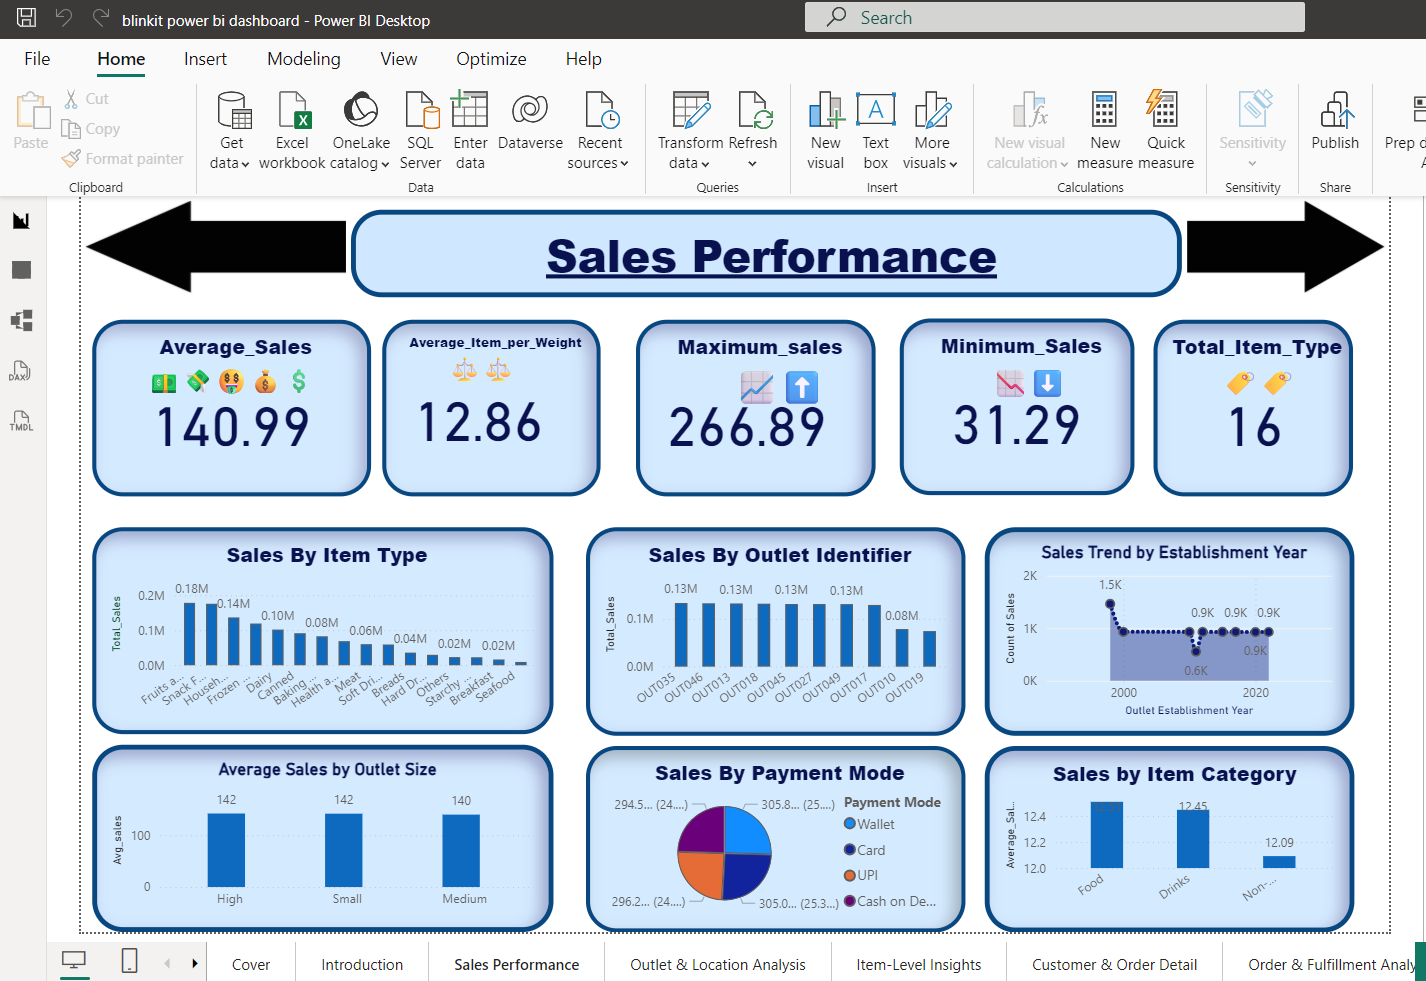

The page's visual inventory and layout, read from the dashboard file:
{"tool":"powerbi","page":{"name":"Sales Performance ","canvas":[1280,720],"ordinal":2},"visuals":[{"type":"textbox","title":"Sales Performance","box":[264.1,13.5,813.2,85.6],"z":0},{"type":"cardVisual","title":"Average_Item_per_Weight","fields":{"Data":["blinkit_data_master.Average_item_weight"]},"box":[295,121.2,213.8,172.5],"z":1000},{"type":"cardVisual","title":"Maximum_sales","fields":{"Data":["blinkit_data_master.Maximum_Sales"]},"box":[542.9,121.1,234.8,172.4],"z":2000},{"type":"cardVisual","title":"Minimum_Sales","fields":{"Data":["blinkit_data_master.minimum_sales"]},"box":[801,119.8,229.9,172.4],"z":3000},{"type":"cardVisual","title":"Total_Item_Type","fields":{"Data":["blinkit_data_master.Total_Item_types"]},"box":[1048.8,121.2,195,172.5],"z":4000},{"type":"clusteredColumnChart","title":"Sales By Item Type","fields":{"Y":["blinkit_data_master.Total_Sales"],"Category":["blinkit_data_master.Item Type"]},"box":[11.2,323.8,451.2,202.5],"z":5000},{"type":"clusteredColumnChart","title":"Average Sales by Outlet Size","fields":{"Y":["blinkit_data_master.Avg_sales"],"Category":["blinkit_data_master.Outlet Size"]},"box":[11,537,451,183],"z":6000},{"type":"clusteredColumnChart","title":"Sales By Outlet Identifier","fields":{"Category":["blinkit_data_master.Outlet Identifier"],"Y":["blinkit_data_master.Total_Sales"]},"box":[493.8,323.8,371.2,203.8],"z":7000},{"type":"pieChart","title":"Sales By Payment Mode","fields":{"Category":["blinkit_data_master.Payment Mode"],"Y":["blinkit_data_master.Total_Sales"]},"box":[493.8,537.5,371.2,182.5],"z":8000},{"type":"clusteredColumnChart","title":"Sales by Item Category","fields":{"Category":["blinkit_data_master.Item Category"],"Y":["blinkit_data_master.Average_Sales_per Weight"]},"box":[884.1,538,362,182.2],"z":9000},{"type":"lineChart","title":"Sales Trend by Establishment Year","fields":{"Y":["CountNonNull(blinkit_data_master.Sales)"],"Category":["blinkit_data_master.Outlet Establishment Year"]},"box":[883.8,323.8,361.2,203.8],"z":10000},{"type":"cardVisual","title":"Average_Sales","fields":{"Data":["blinkit_data_master.Avg_sales"]},"box":[11.2,121.2,272.5,172.5],"z":11000},{"type":"textbox","box":[11,159,272.7,48.9],"z":12000},{"type":"textbox","box":[275.1,148,233.6,51.4],"z":13000},{"type":"textbox","box":[589.4,159,188.3,91.7],"z":14000},{"type":"textbox","box":[824.2,159,206.7,91.7],"z":15000},{"type":"textbox","box":[1073.6,159,157.7,46.5],"z":16000},{"type":"image","box":[0,0,264.1,99],"z":16001},{"type":"image","box":[1077.3,0,203,99],"z":16002}]}

Visuals, with their boxes on the page's 1280x720 design canvas (x1, y1, x2, y2). These are canvas units, not pixel positions in the 1426x981 screenshot, which may show the page scaled, cropped or inside an application window:
"Sales Performance" textbox: (x1=264, y1=14, x2=1077, y2=99)
"Average_Item_per_Weight" cardVisual: (x1=295, y1=121, x2=509, y2=294)
"Maximum_sales" cardVisual: (x1=543, y1=121, x2=778, y2=294)
"Minimum_Sales" cardVisual: (x1=801, y1=120, x2=1031, y2=292)
"Total_Item_Type" cardVisual: (x1=1049, y1=121, x2=1244, y2=294)
"Sales By Item Type" clusteredColumnChart: (x1=11, y1=324, x2=462, y2=526)
"Average Sales by Outlet Size" clusteredColumnChart: (x1=11, y1=537, x2=462, y2=720)
"Sales By Outlet Identifier" clusteredColumnChart: (x1=494, y1=324, x2=865, y2=528)
"Sales By Payment Mode" pieChart: (x1=494, y1=538, x2=865, y2=720)
"Sales by Item Category" clusteredColumnChart: (x1=884, y1=538, x2=1246, y2=720)
"Sales Trend by Establishment Year" lineChart: (x1=884, y1=324, x2=1245, y2=528)
"Average_Sales" cardVisual: (x1=11, y1=121, x2=284, y2=294)
textbox: (x1=11, y1=159, x2=284, y2=208)
textbox: (x1=275, y1=148, x2=509, y2=199)
textbox: (x1=589, y1=159, x2=778, y2=251)
textbox: (x1=824, y1=159, x2=1031, y2=251)
textbox: (x1=1074, y1=159, x2=1231, y2=206)
image: (x1=0, y1=0, x2=264, y2=99)
image: (x1=1077, y1=0, x2=1280, y2=99)
